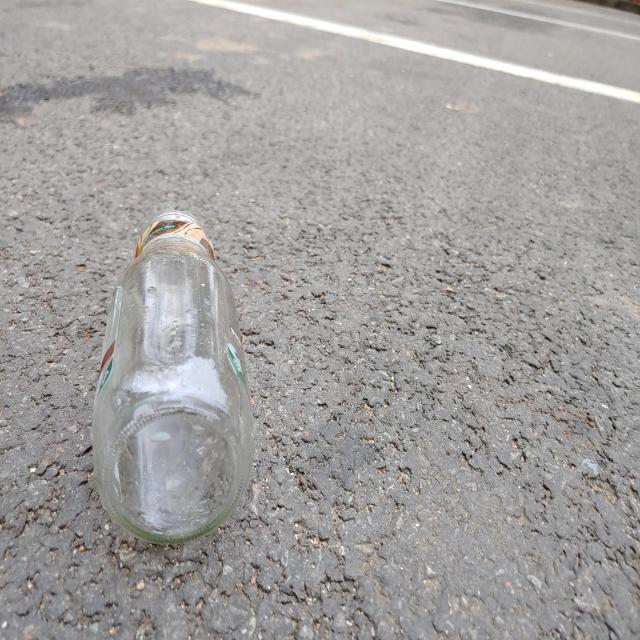glass: (91, 210, 254, 544)
